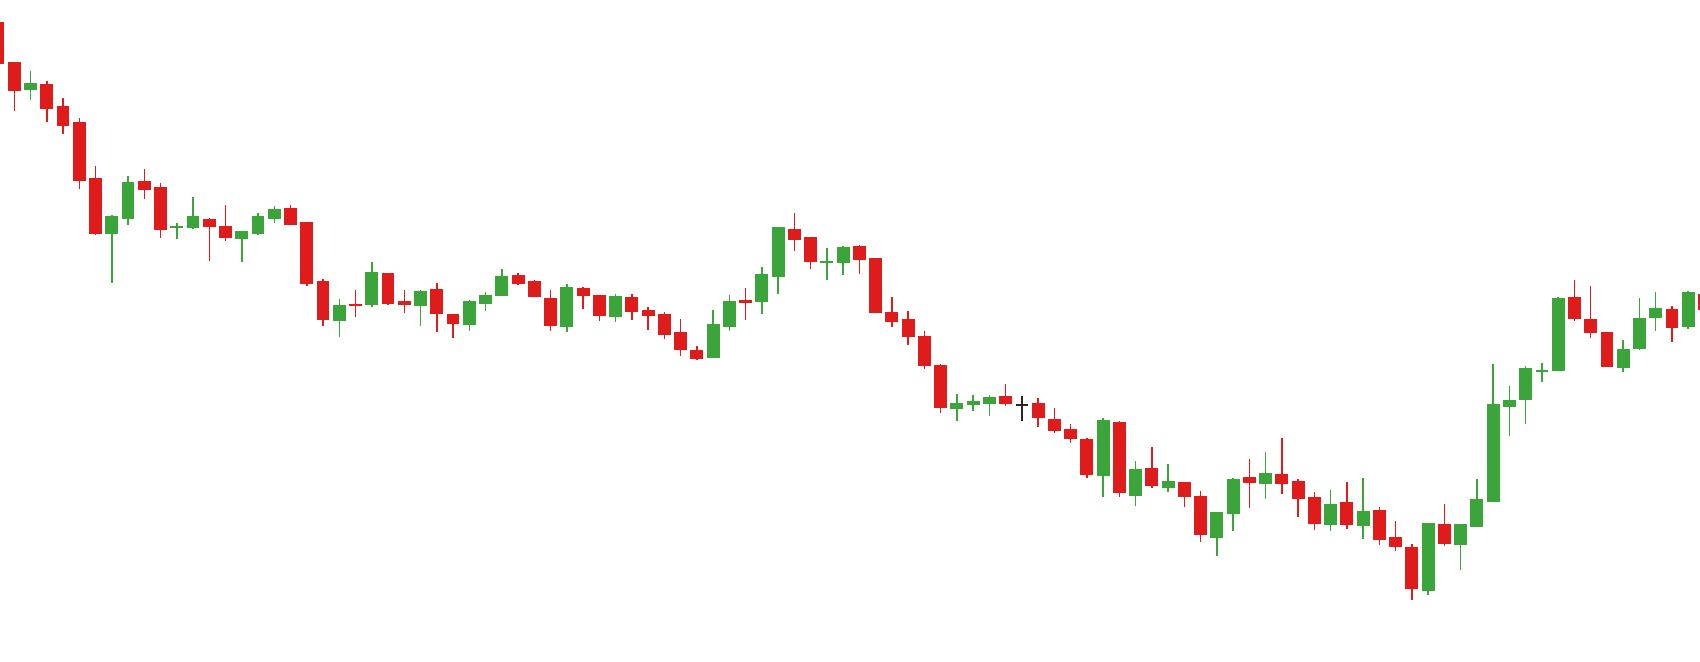buy: (1209, 477, 1437, 601)
